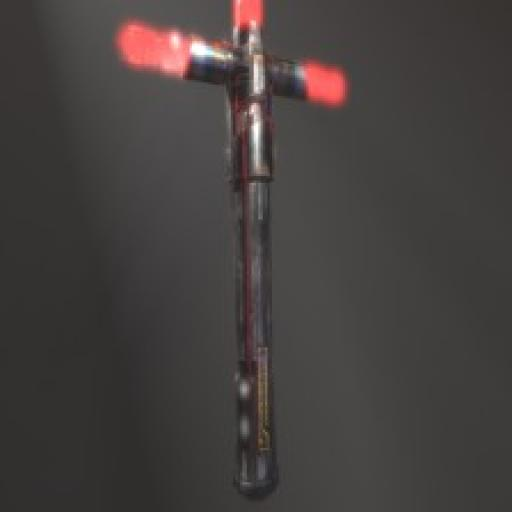sith saber: (106, 0, 356, 503)
